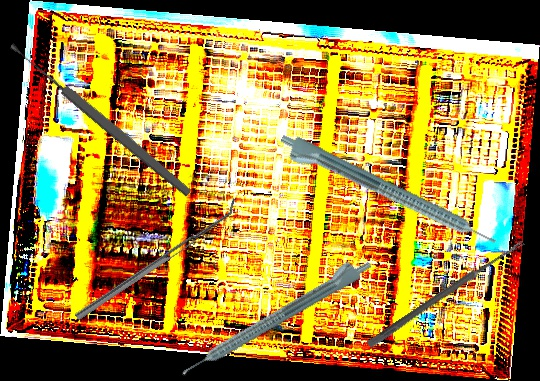Handpiece: (274, 130, 499, 259), (173, 249, 376, 381)
Spatula Surgical: (70, 197, 243, 321)
Surgical Spoon: (7, 39, 194, 199), (366, 237, 526, 350)
